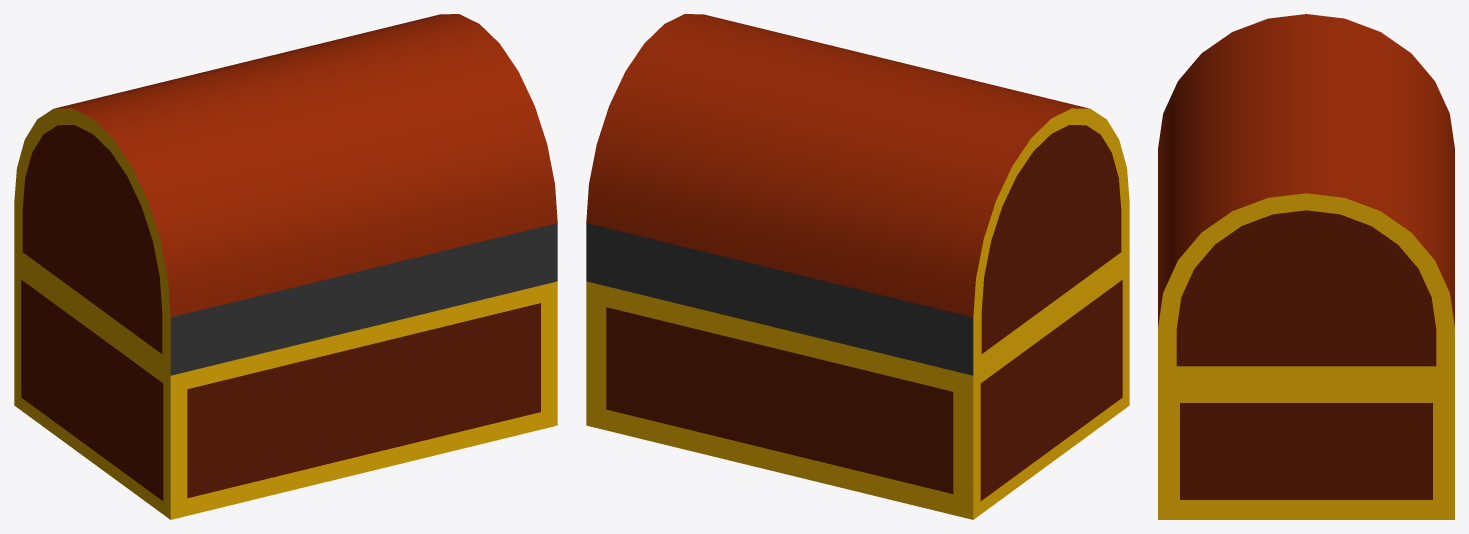
File: chest.fbx
3 renders of one model, left to right at view 1: azimuth 30°, elevation 25°; view 2: azimuth 150°, elevation 25°; view 3: azimuth 270°, elevation 25°, orthographic. The views are drawn at different scales.
Visible parts, largest first — view 1: Treasure_Chest1; view 2: Treasure_Chest1; view 3: Treasure_Chest1.
Part boxes in pixels (<box>): Treasure_Chest1: <box>14,14,557,519</box>; Treasure_Chest1: <box>586,14,1129,519</box>; Treasure_Chest1: <box>1158,14,1454,519</box>.
Bounding box in the file's own units: 5 × 4.25 × 3.5.
